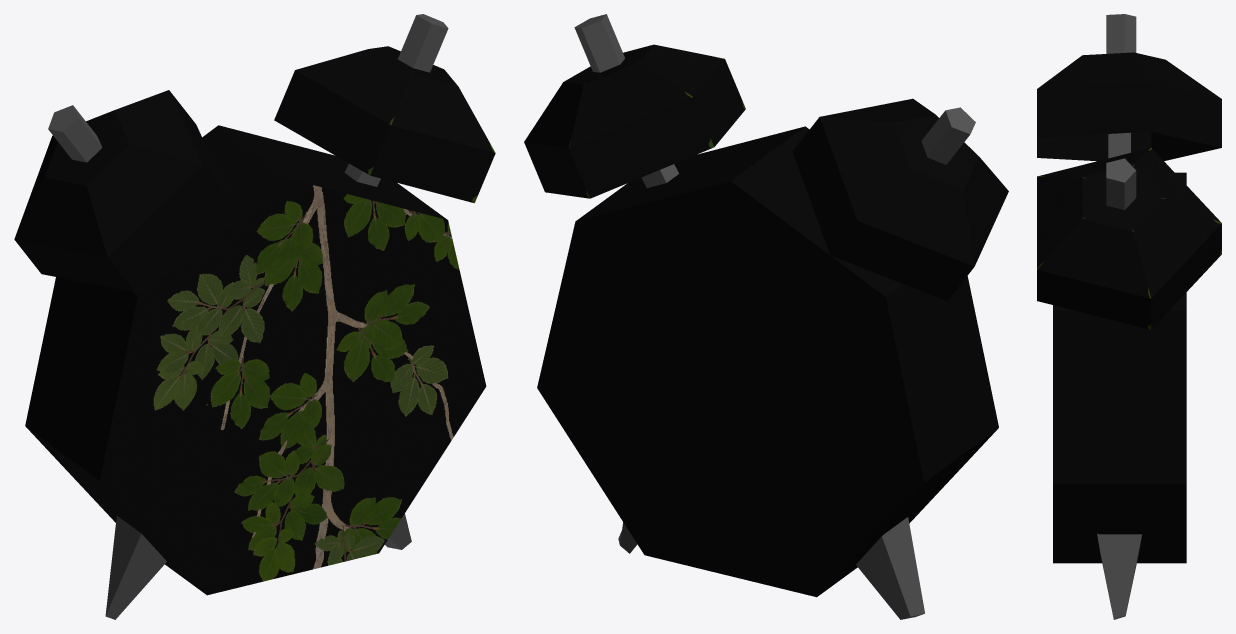
3 renders of one model, left to right at view 1: azimuth 30°, elevation 25°; view 2: azimuth 150°, elevation 25°; view 3: azimuth 270°, elevation 25°, orthographic. The views are drawn at different scales.
Parts seen in each view (by area): view 1: Clock_1; view 2: Clock_1; view 3: Clock_1.
Boxes of the visible parts, x1,y1,x2,y2 form: Clock_1: (14,14,495,619); Clock_1: (524,14,1008,619); Clock_1: (1037,14,1221,619).
Bounding box in the file's own units: 163 × 182 × 64.73.
